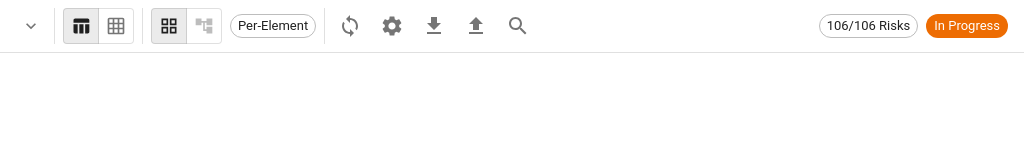
risk toolbar — status chip reasons › In Progress: the tooltip names the reasons
Hover over the element with test id "risk-status-chip": (967, 26) left=926, top=14, right=1008, bottom=38
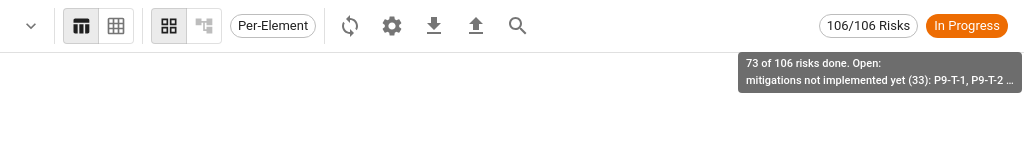
Now the text with test id "risk-status-reasons" shows "73 of 106 risks done. Open:", box left=746, top=57, right=1014, bottom=86
Now the text with test id "risk-status-reasons" shows "mitigations not implemented yet (33): P9-T-1", box left=746, top=57, right=1014, bottom=86
